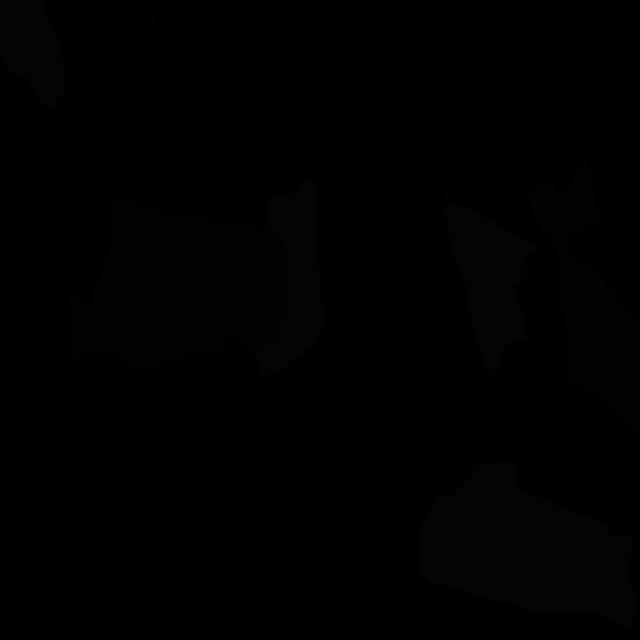cardboard: (67, 203, 278, 372), (554, 233, 640, 438), (163, 212, 290, 320), (526, 160, 602, 236), (105, 197, 143, 265)
rigid_plastic: (92, 0, 174, 109), (442, 188, 456, 207)
soft_plastic: (418, 474, 636, 628), (446, 203, 539, 383), (252, 178, 324, 384), (454, 461, 517, 509)
